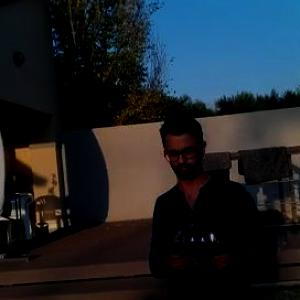follow: (143, 104, 282, 299)
